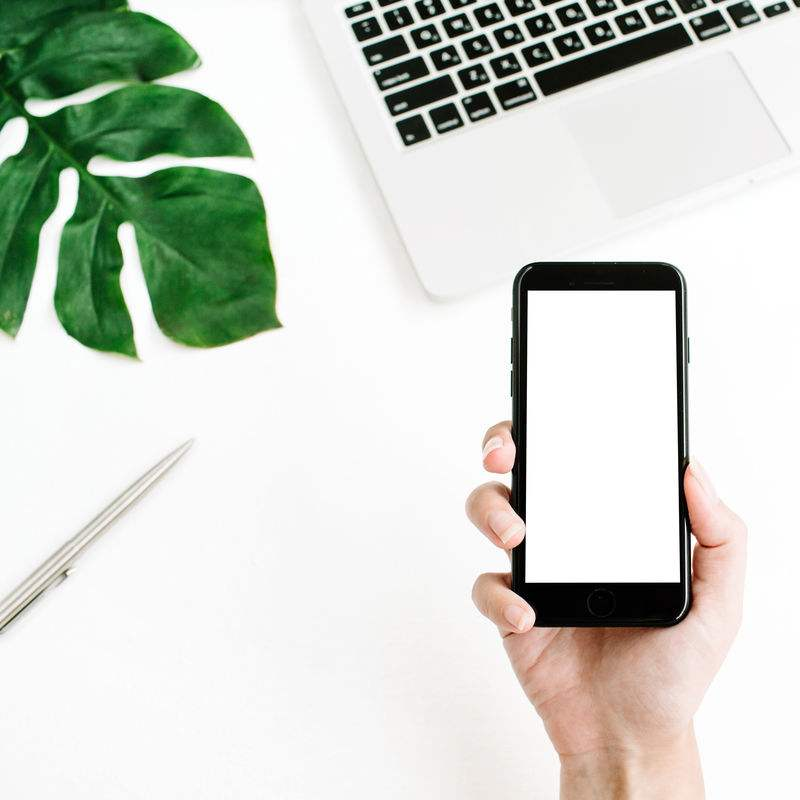phone: (468, 249, 755, 737)
